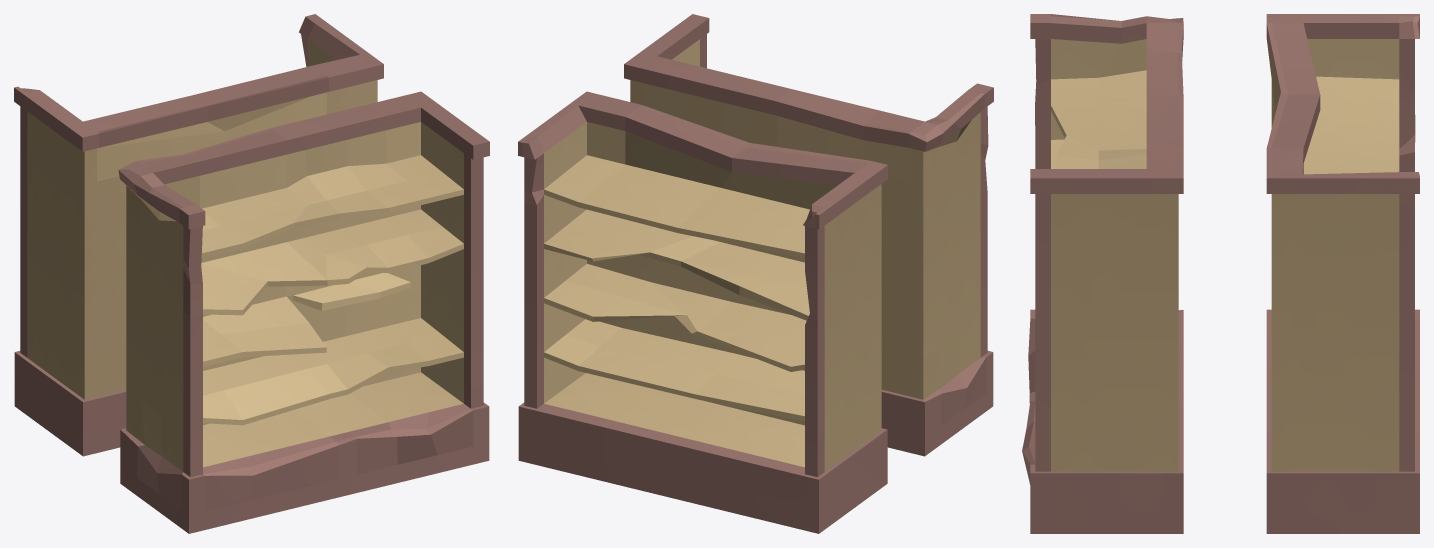
File: shelf_3_C.glb
The picture shows the model from 3 angles, left to right: view 1: azimuth 30°, elevation 25°; view 2: azimuth 150°, elevation 25°; view 3: azimuth 270°, elevation 25°; orthographic projection. The views are drawn at different scales.
Visible parts, largest first — view 1: shelf_3_C; view 2: shelf_3_C; view 3: shelf_3_C.
Boxes of the visible parts, left/top/right/bottom form: shelf_3_C: left=14, top=14, right=489, bottom=533; shelf_3_C: left=518, top=14, right=993, bottom=533; shelf_3_C: left=1022, top=14, right=1419, bottom=533.
Bounding box in the file's own units: 1.21 × 1.22 × 1.23.
1 material, 1 textured.
